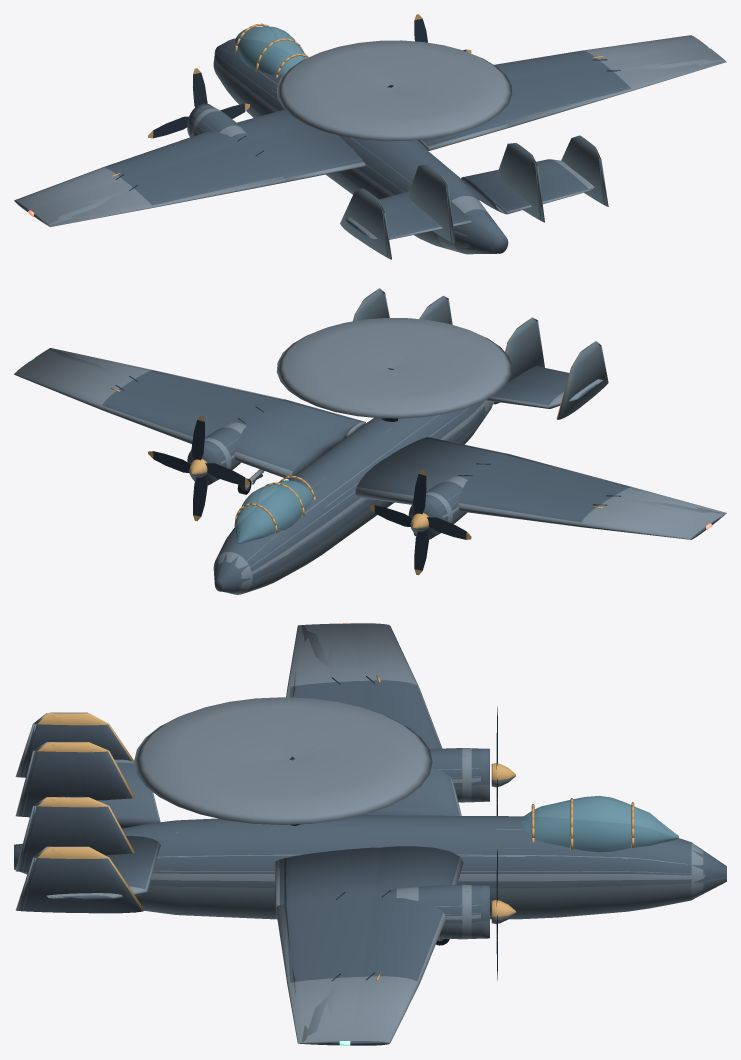
3 views of the same model, one above another, from view 1: azimuth 30°, elevation 25°; view 2: azimuth 150°, elevation 25°; view 3: azimuth 270°, elevation 25° (orthographic). The views are drawn at different scales.
Parts seen in each view (by area): view 1: Airframe shell.001 mesh, Airframe shell mesh, Rotodome, Rotodome.001, Airframe shell.002 mesh, Canopy glass, Canopy glass.001, Drive fairing, Prop_0 mesh, Hinged Aileron, Hinged Aileron.001, Canopy glass.002; view 2: Airframe shell mesh, Airframe shell.001 mesh, Rotodome, Rotodome.001, Airframe shell.002 mesh, Canopy glass, Canopy glass.001, Prop_0 mesh, Prop_1 mesh, Drive fairing, Drive fairing.001, Canopy glass.002; view 3: Airframe shell mesh, Airframe shell.001 mesh, Rotodome, Rotodome.001, Canopy glass, Canopy glass.001, Airframe shell.002 mesh, Drive fairing.001, Drive fairing, Canopy glass.002, Hinged Aileron.001.
Part boxes in pixels (bbox=[...]): Airframe shell.001 mesh: bbox=[14, 23, 725, 258]; Airframe shell mesh: bbox=[15, 24, 711, 259]; Rotodome: bbox=[276, 40, 512, 141]; Rotodome.001: bbox=[312, 48, 476, 117]; Airframe shell.002 mesh: bbox=[14, 42, 724, 257]; Canopy glass: bbox=[234, 26, 306, 75]; Canopy glass.001: bbox=[235, 26, 305, 74]; Drive fairing: bbox=[187, 103, 246, 138]; Prop_0 mesh: bbox=[148, 68, 249, 138]; Hinged Aileron: bbox=[42, 176, 285, 226]; Hinged Aileron.001: bbox=[506, 61, 726, 127]; Canopy glass.002: bbox=[235, 28, 305, 74]; Airframe shell mesh: bbox=[14, 293, 711, 594]; Airframe shell.001 mesh: bbox=[29, 288, 725, 594]; Rotodome: bbox=[276, 318, 512, 418]; Rotodome.001: bbox=[312, 325, 476, 394]; Airframe shell.002 mesh: bbox=[36, 289, 724, 594]; Canopy glass: bbox=[234, 480, 312, 543]; Canopy glass.001: bbox=[235, 480, 312, 543]; Prop_0 mesh: bbox=[369, 469, 471, 575]; Prop_1 mesh: bbox=[148, 415, 249, 521]; Drive fairing: bbox=[408, 475, 467, 539]; Drive fairing.001: bbox=[187, 421, 246, 485]; Canopy glass.002: bbox=[235, 481, 309, 543]; Airframe shell mesh: bbox=[14, 623, 726, 1045]; Airframe shell.001 mesh: bbox=[15, 623, 704, 1045]; Rotodome: bbox=[134, 697, 432, 824]; Rotodome.001: bbox=[178, 706, 388, 795]; Canopy glass: bbox=[522, 795, 678, 852]; Canopy glass.001: bbox=[522, 796, 678, 851]; Airframe shell.002 mesh: bbox=[14, 623, 726, 1045]; Drive fairing.001: bbox=[388, 884, 489, 939]; Drive fairing: bbox=[429, 748, 489, 802]; Canopy glass.002: bbox=[521, 796, 678, 842]; Hinged Aileron.001: bbox=[275, 904, 320, 1044].
Size of the model in its own units: 24.69 by 4.52 by 17.72.
